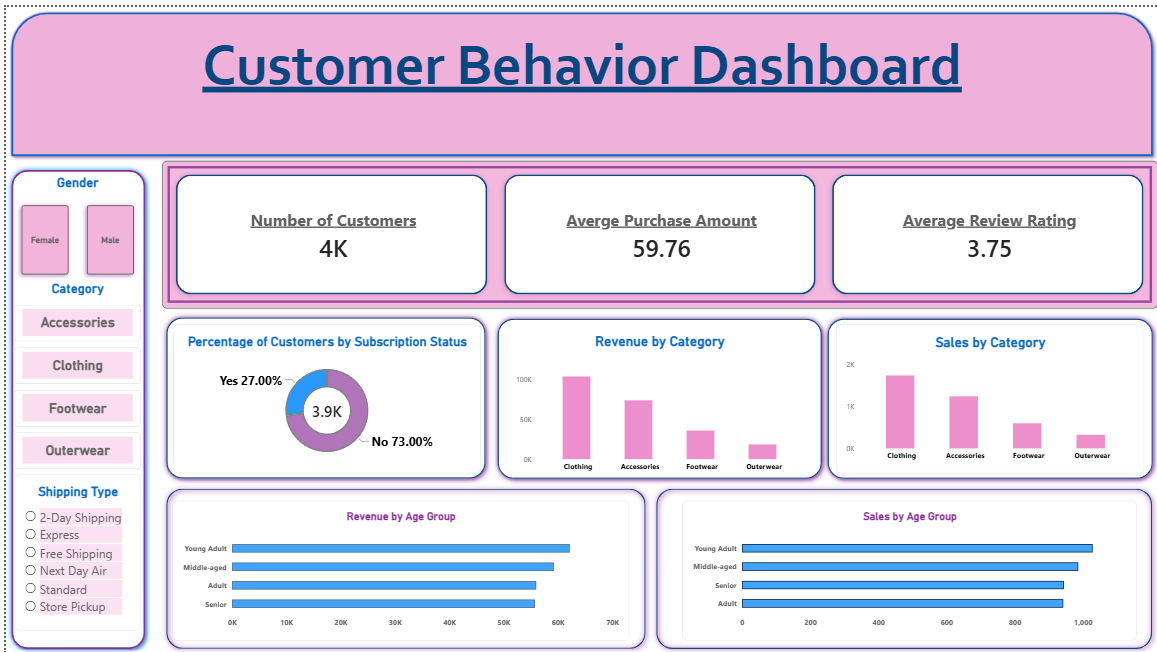

Layout of this report page (visuals, bound fields, positions):
{"tool":"powerbi","page":{"name":"Customer_Behavior_Dashboard","canvas":[1920,1080],"ordinal":0},"visuals":[{"type":"cardVisual","fields":{"Data":["public customer.Number of Customers","public customer.Averge Purchase Amount","public customer.Average Review Rating"]},"box":[260,256.7,1659.5,246.1],"z":0},{"type":"shape","box":[0,0,1920.4,257.3],"z":1000},{"type":"textbox","box":[0,0,1920.4,240.8],"z":2000},{"type":"shape","box":[258.3,508.3,550,286.7],"z":3000},{"type":"donutChart","title":"Percentage of Customers by Subscription Status","fields":{"Category":["public customer.subscription_status"],"Y":["CountNonNull(public customer.customer_id)"]},"box":[278.3,530,511.7,248.3],"z":4000},{"type":"shape","box":[810,510,558.3,285],"z":5000},{"type":"shape","box":[1360,510,560,285],"z":6000},{"type":"clusteredColumnChart","title":"Revenue by Category","fields":{"Category":["public customer.category"],"Y":["Sum(public customer.purchase_amount)"]},"box":[833.3,530,513.3,265],"z":7000},{"type":"clusteredColumnChart","title":"Sales by Category","fields":{"Category":["public customer.category"],"Y":["CountNonNull(public customer.customer_id)"]},"box":[1383.3,530,513.3,248.3],"z":8000},{"type":"shape","box":[0,263.3,241.1,816.7],"z":9000},{"type":"advancedSlicerVisual","title":"Gender","fields":{"Values":["public customer.gender"]},"box":[15,278.3,210,178.3],"z":10000},{"type":"advancedSlicerVisual","title":"Category","fields":{"Values":["public customer.category"]},"box":[15.6,456.7,210,314],"z":11000},{"type":"listSlicer","title":"Shipping Type","fields":{"Values":["public customer.shipping_type"]},"box":[15,778.3,210,260],"z":12000},{"type":"clusteredBarChart","title":"Revenue by Age Group","fields":{"Category":["public customer.age_group"],"Y":["Sum(public customer.purchase_amount)"]},"box":[277.9,823.2,761.7,233.3],"z":13000},{"type":"clusteredBarChart","title":"Sales by Age Group","fields":{"Category":["public customer.age_group"],"Y":["CountNonNull(public customer.customer_id)"]},"box":[1126.3,822.1,757.9,232.6],"z":14000},{"type":"shape","box":[257.9,794.7,816.7,285],"z":15000},{"type":"shape","box":[1074.7,794.7,844.2,285.3],"z":16000}]}

Visuals, with their boxes in screenshot pixels (x1, y1, x2, y2), scaled from the page's 1920x1080 canvas onto the 1157x652 screenshot:
cardVisual - public customer.Number of Customers x public customer.Averge Purchase Amount: 157/155/1156/304
shape: 0/0/1156/155
textbox: 0/0/1156/145
shape: 156/307/487/480
"Percentage of Customers by Subscription Status" donutChart: 168/320/476/470
shape: 488/308/825/480
shape: 820/308/1156/480
"Revenue by Category" clusteredColumnChart: 502/320/811/480
"Sales by Category" clusteredColumnChart: 834/320/1143/470
shape: 0/159/145/651
"Gender" advancedSlicerVisual: 9/168/136/276
"Category" advancedSlicerVisual: 9/276/136/465
"Shipping Type" listSlicer: 9/470/136/627
"Revenue by Age Group" clusteredBarChart: 167/497/626/638
"Sales by Age Group" clusteredBarChart: 679/496/1135/637
shape: 155/480/648/651
shape: 648/480/1156/651
